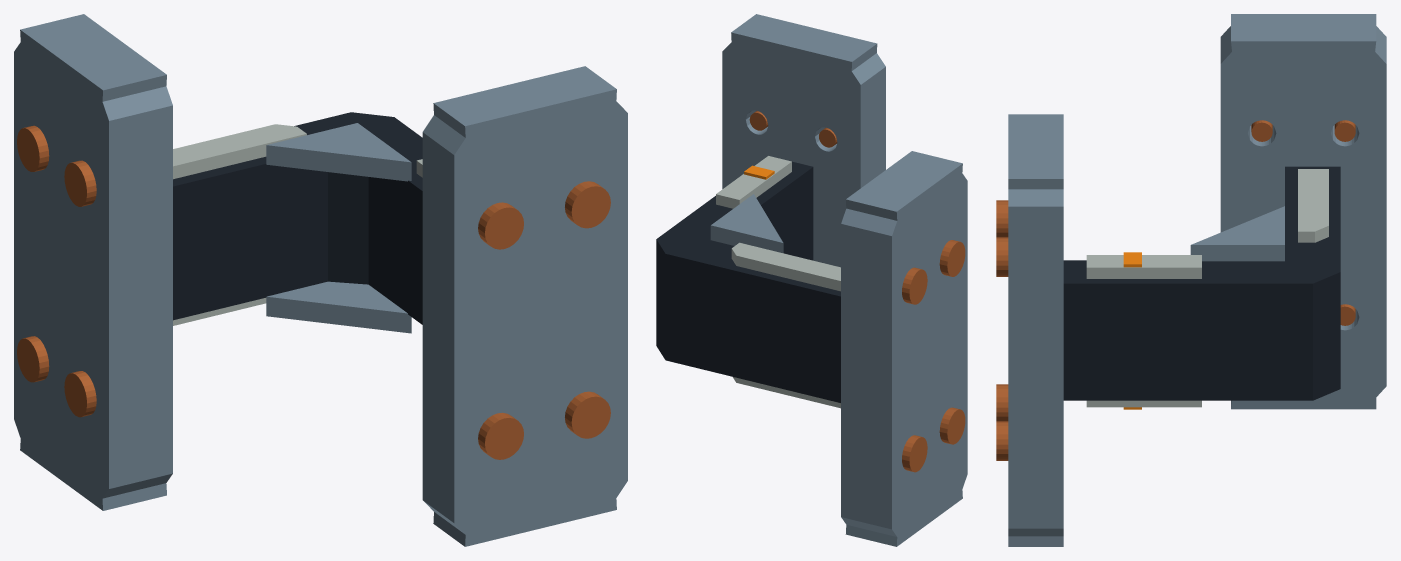
Rendered from M03-006_side_L_bracket.obj.
3 renders of one model, left to right at view 1: azimuth 30°, elevation 25°; view 2: azimuth 150°, elevation 25°; view 3: azimuth 270°, elevation 25°, orthographic. The views are drawn at different scales.
Parts seen in each view (by area): view 1: TOP_Flange_4_Bores, SIDE_Flange_4_Bores, L_CutCorner_Core, Gusset_Right, Gusset_Left, Ceramic_Rail_1, Top_Bolt_Head_X0.735_Y-0.22, Top_Bolt_Head_X0.545_Y0.22, Top_Bolt_Head_X0.735_Y0.22, Top_Bolt_Head_X0.545_Y-0.22, Side_Bolt_Head_Y0.22_Z0.09, Side_Bolt_Head_Y-0.22_Z0.09 (+2 smaller); view 2: SIDE_Flange_4_Bores, L_CutCorner_Core, TOP_Flange_4_Bores, Ceramic_Rail_1, Gusset_Right, Vertical_Guard_1, Side_Bolt_Head_Y-0.22_Z0.09, Side_Bolt_Head_Y-0.22_Z-0.09, Side_Bolt_Head_Y0.22_Z0.09, Side_Bolt_Head_Y0.22_Z-0.09, Ceramic_Rail_-1; view 3: SIDE_Flange_4_Bores, L_CutCorner_Core, TOP_Flange_4_Bores, Gusset_Right, Vertical_Guard_1, Ceramic_Rail_1, Vertical_Guard_-1, Top_Bolt_Head_X0.735_Y-0.22, Top_Bolt_Head_X0.735_Y0.22, Top_Bolt_Head_X0.545_Y-0.22, Top_Bolt_Head_X0.545_Y0.22.
Boxes of the visible parts, x1,y1,x2,y2 form: TOP_Flange_4_Bores: (422,66,627,546); SIDE_Flange_4_Bores: (14,14,172,510); L_CutCorner_Core: (173,112,422,324); Gusset_Right: (266,123,411,181); Gusset_Left: (266,281,411,333); Ceramic_Rail_1: (173,124,306,179); Top_Bolt_Head_X0.735_Y-0.22: (565,391,610,438); Top_Bolt_Head_X0.545_Y0.22: (478,202,523,249); Top_Bolt_Head_X0.735_Y0.22: (565,181,610,228); Top_Bolt_Head_X0.545_Y-0.22: (478,412,523,459); Side_Bolt_Head_Y0.22_Z0.09: (64,160,96,206); Side_Bolt_Head_Y-0.22_Z0.09: (64,371,96,417); SIDE_Flange_4_Bores: (841,151,967,546); L_CutCorner_Core: (656,161,840,402); TOP_Flange_4_Bores: (722,14,885,267); Ceramic_Rail_1: (731,242,840,291); Gusset_Right: (710,194,783,253); Vertical_Guard_1: (716,156,791,208); Side_Bolt_Head_Y-0.22_Z0.09: (939,407,965,444); Side_Bolt_Head_Y-0.22_Z-0.09: (902,435,927,472); Side_Bolt_Head_Y0.22_Z0.09: (939,240,965,276); Side_Bolt_Head_Y0.22_Z-0.09: (902,267,927,304); Ceramic_Rail_-1: (733,377,840,408); SIDE_Flange_4_Bores: (1220,14,1386,409); L_CutCorner_Core: (1063,166,1340,400); TOP_Flange_4_Bores: (1008,114,1063,546); Gusset_Right: (1190,206,1284,261); Vertical_Guard_1: (1086,255,1201,278); Ceramic_Rail_1: (1298,169,1328,242); Vertical_Guard_-1: (1086,400,1201,407); Top_Bolt_Head_X0.735_Y-0.22: (996,421,1008,460); Top_Bolt_Head_X0.735_Y0.22: (996,237,1008,276); Top_Bolt_Head_X0.545_Y-0.22: (996,384,1008,421); Top_Bolt_Head_X0.545_Y0.22: (996,200,1008,237).
Size of the model in its own units: 0.891 by 0.88 by 0.846.
